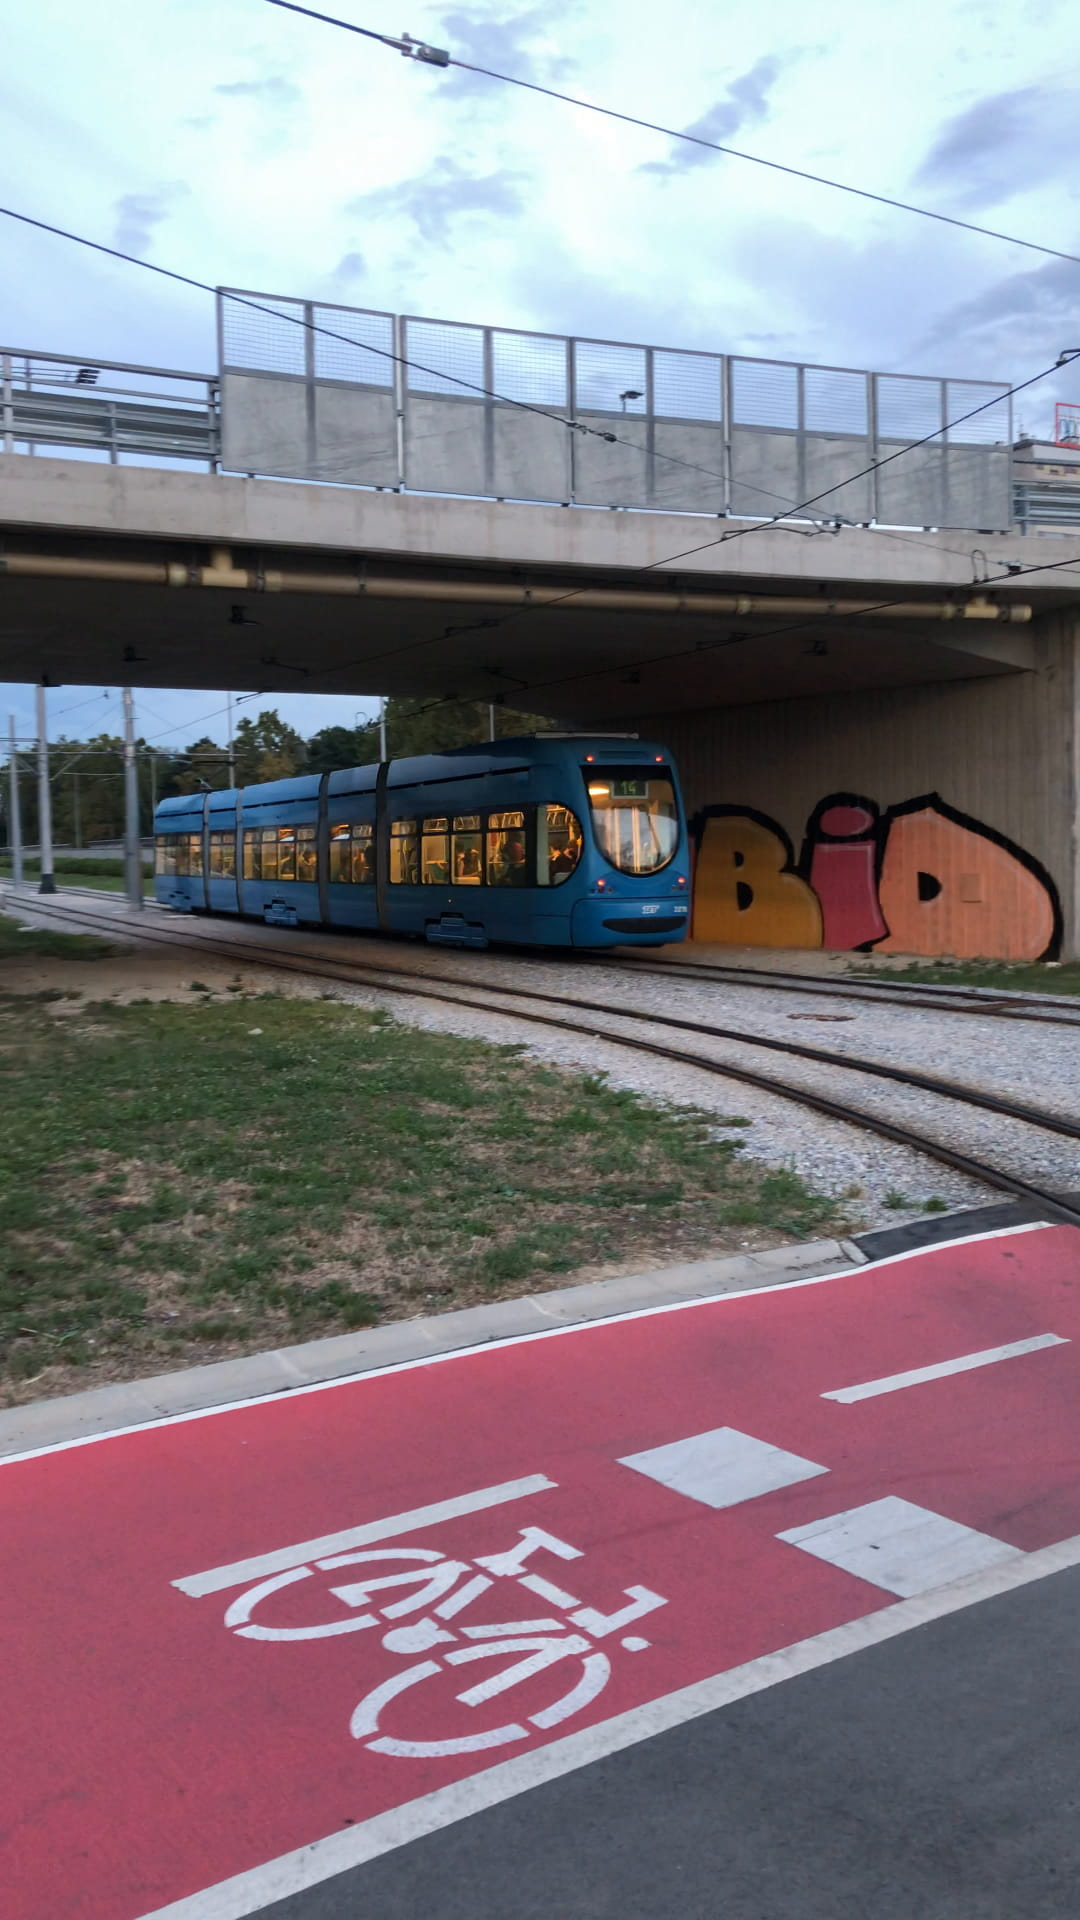tramvaj: (148, 723, 705, 949)
